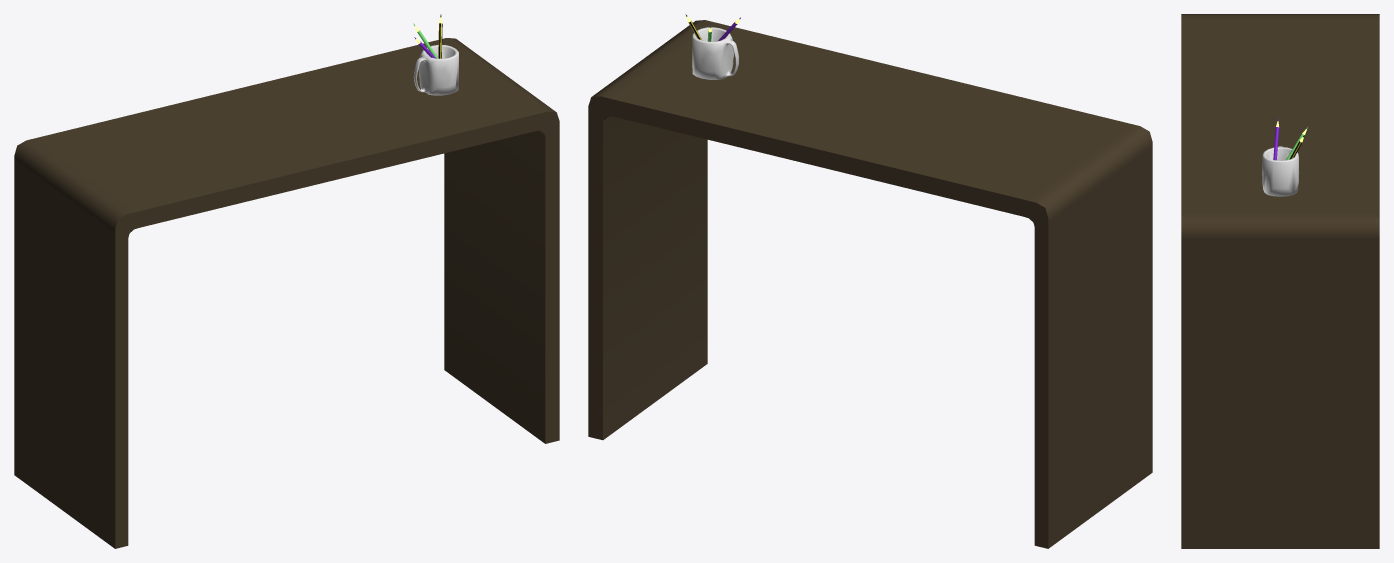
File: PROJECT DREAM - Bedroom - Desk.fbx
The picture shows the model from 3 angles, left to right: view 1: azimuth 30°, elevation 25°; view 2: azimuth 150°, elevation 25°; view 3: azimuth 270°, elevation 25°; orthographic projection. The views are drawn at different scales.
Visible parts, largest first — view 1: Bedroom - Desk; view 2: Bedroom - Desk; view 3: Bedroom - Desk.
Part boxes in pixels (x1,y1,x2,y2): Bedroom - Desk: (14,14,559,548); Bedroom - Desk: (588,14,1152,548); Bedroom - Desk: (1181,14,1379,548).
Bounding box in the file's own units: 216 × 183 × 84.75.
